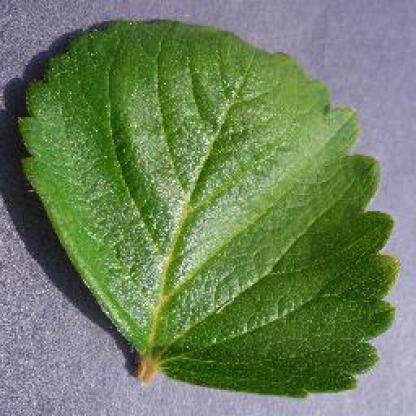healthy: (12, 6, 406, 404)
